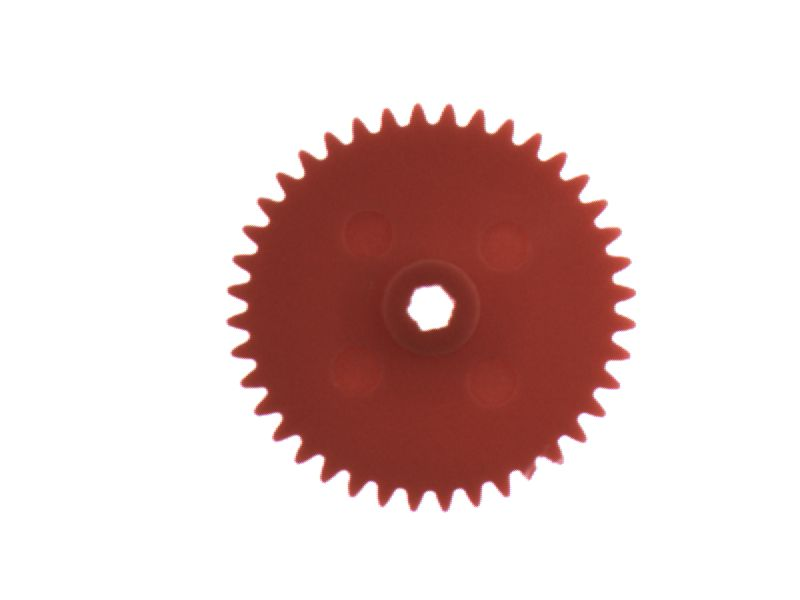defect_break: (508, 448, 556, 497)
